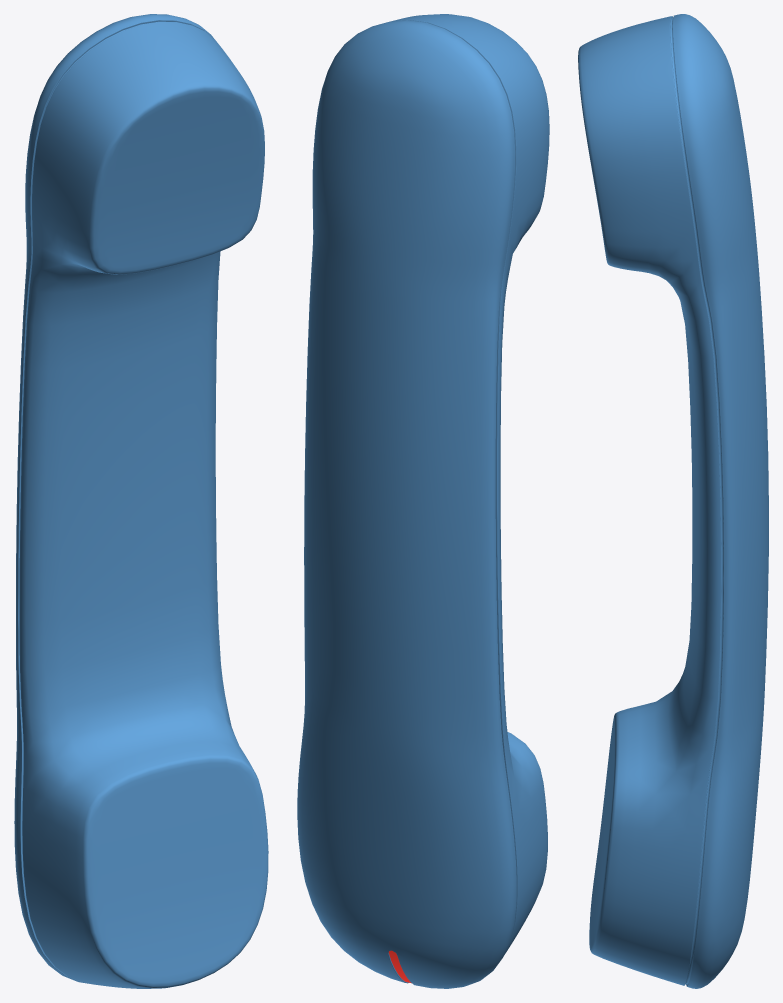
Rendered from phoneReceiver.fbx.
3 views of the same model, side by side, from view 1: azimuth 30°, elevation 25°; view 2: azimuth 150°, elevation 25°; view 3: azimuth 270°, elevation 25° (orthographic).
Parts seen in each view (by area): view 1: Cisco Phone CP 6941.009; view 2: Cisco Phone CP 6941.009; view 3: Cisco Phone CP 6941.009.
Part boxes in pixels (left/top/right/bottom): Cisco Phone CP 6941.009: left=14, top=14, right=268, bottom=988; Cisco Phone CP 6941.009: left=297, top=14, right=549, bottom=988; Cisco Phone CP 6941.009: left=578, top=14, right=768, bottom=988.
Size of the model in its own units: 3.48 by 14.84 by 2.71.
